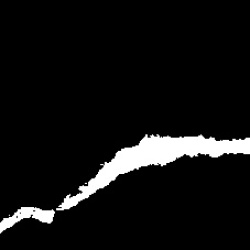crack: (0, 135, 248, 230)
